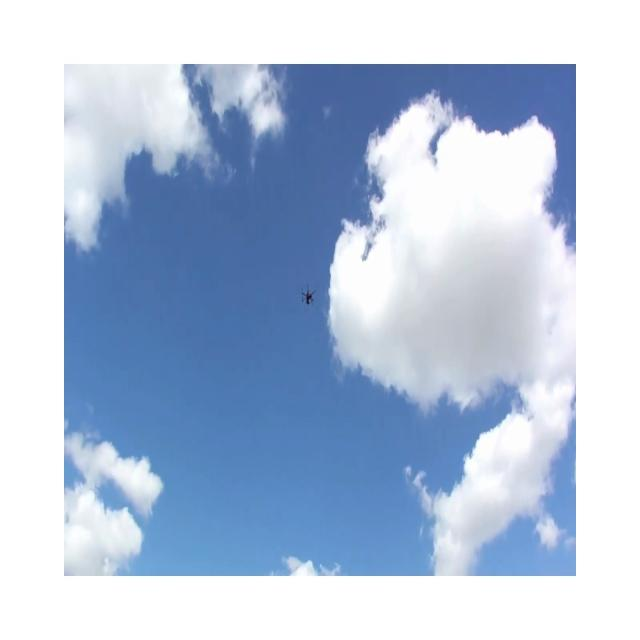drone: (301, 282, 315, 306)
